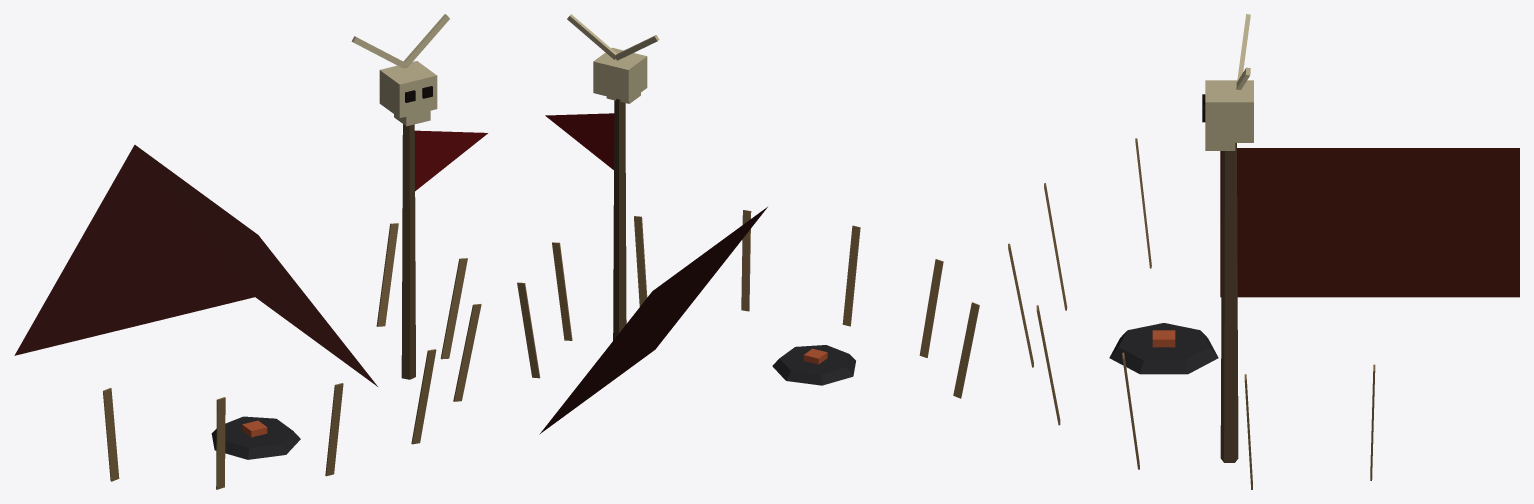
File: mod_skull_camp.glb
3 views of the same model, side by side, from view 1: azimuth 30°, elevation 25°; view 2: azimuth 150°, elevation 25°; view 3: azimuth 270°, elevation 25° (orthographic). The views are drawn at different scales.
Visible parts, largest first — view 1: mod_skull_camp; view 2: mod_skull_camp; view 3: mod_skull_camp.
Part boxes in pixels (left/top/right/bottom): mod_skull_camp: left=14, top=14, right=487, bottom=489; mod_skull_camp: left=517, top=14, right=979, bottom=434; mod_skull_camp: left=1008, top=14, right=1519, bottom=489.
Bounding box in the file's own units: 3.17 × 2.47 × 2.73.
